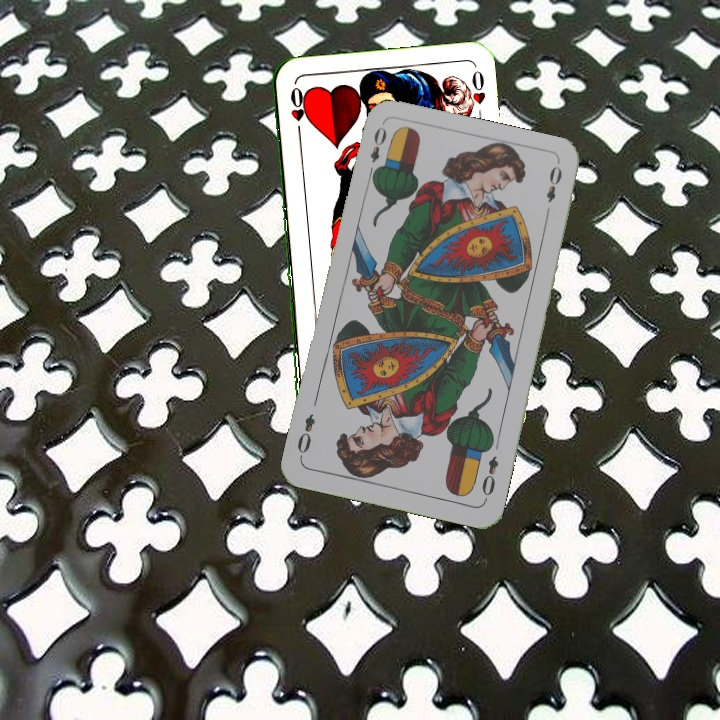EO: (364, 122, 389, 180), (477, 452, 502, 504)
HO: (286, 83, 305, 141)
